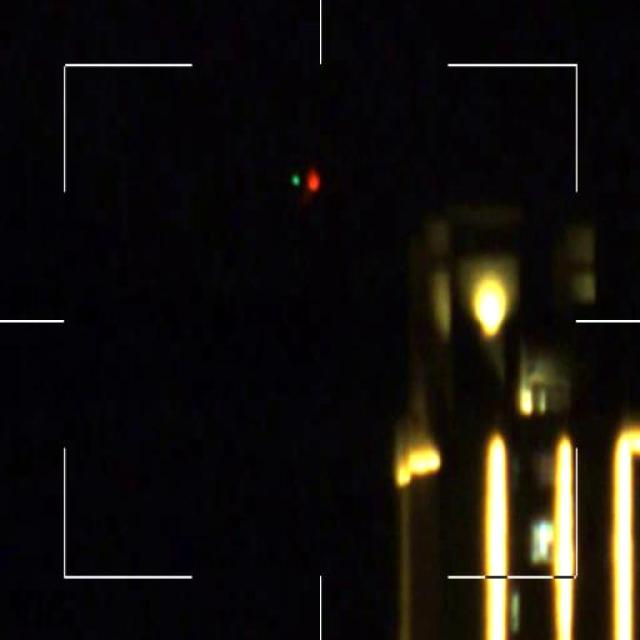bird: (290, 165, 321, 208)
